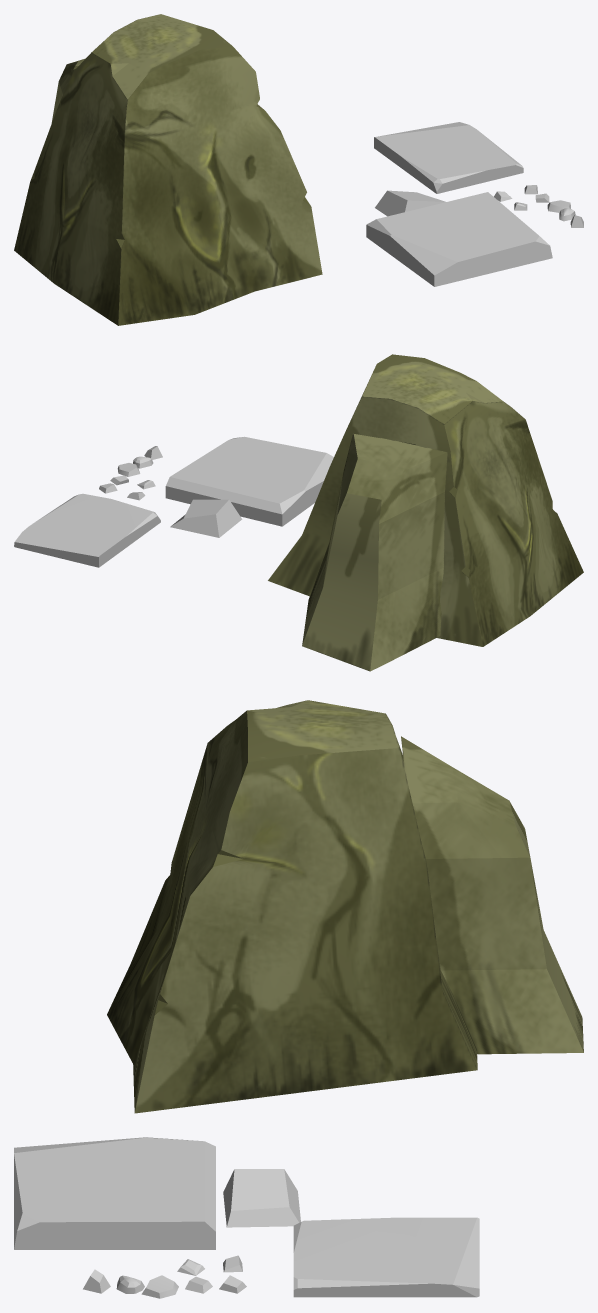
Rendered from BetaRock.FBX.
3 renders of one model, top to bottom at view 1: azimuth 30°, elevation 25°; view 2: azimuth 150°, elevation 25°; view 3: azimuth 270°, elevation 25°, orthographic. The views are drawn at different scales.
Parts seen in each view (by area): view 1: Box001, Box003, Box002, Box011; view 2: Box001, Box003, Box002, Box011; view 3: Box001, Box003, Box002, Box011.
Part boxes in pixels (x1,y1,x2,y2): Box001: (14,14,322,325); Box003: (366,192,552,286); Box002: (374,122,523,193); Box011: (375,190,445,216); Box001: (268,354,583,671); Box003: (165,436,333,526); Box002: (14,493,160,567); Box011: (170,499,242,537); Box001: (107,700,583,1113); Box003: (14,1137,215,1249); Box002: (293,1217,479,1297); Box011: (223,1169,300,1227).
Size of the model in its own units: 45.76 by 20.67 by 32.69.
